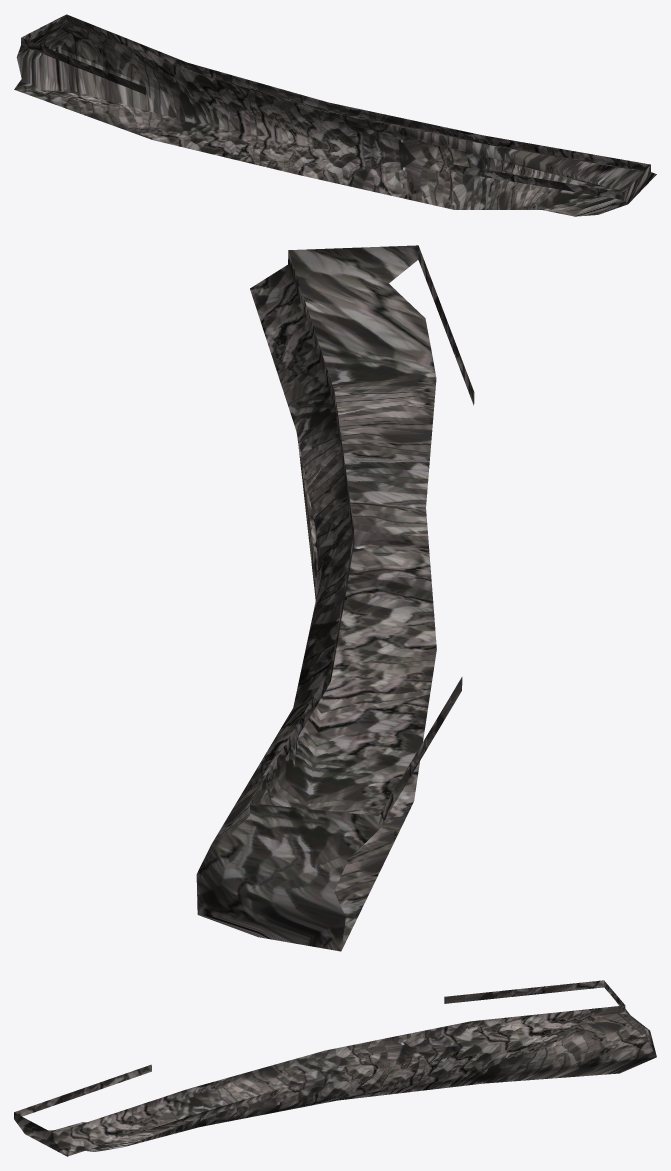
Rendered from CH09_SMAUG_PLAYSURFACE_LAIR17.fbx.
The picture shows the model from 3 angles, top to bottom: view 1: azimuth 30°, elevation 25°; view 2: azimuth 150°, elevation 25°; view 3: azimuth 270°, elevation 25°; orthographic projection. The views are drawn at different scales.
Visible parts, largest first — view 1: CH09_SMAUG_PLAYSURFACE_LAIR17; view 2: CH09_SMAUG_PLAYSURFACE_LAIR17; view 3: CH09_SMAUG_PLAYSURFACE_LAIR17.
Boxes of the visible parts, x1,y1,x2,y2 form: CH09_SMAUG_PLAYSURFACE_LAIR17: [14, 14, 656, 216]; CH09_SMAUG_PLAYSURFACE_LAIR17: [196, 245, 474, 951]; CH09_SMAUG_PLAYSURFACE_LAIR17: [14, 980, 656, 1156].
Bounding box in the file's own units: 99354 × 20351 × 166192.
Materials: 1 (1 with a texture image).
